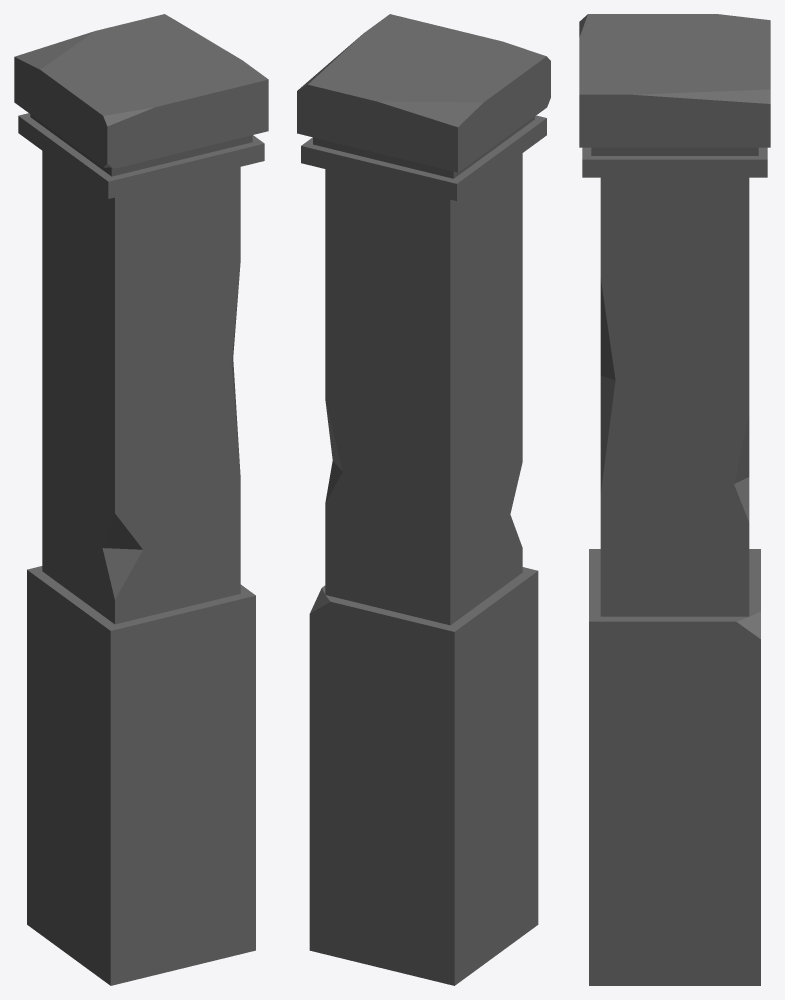
File: BridgePart_02.fbx
The picture shows the model from 3 angles, left to right: view 1: azimuth 30°, elevation 25°; view 2: azimuth 150°, elevation 25°; view 3: azimuth 270°, elevation 25°; orthographic projection. The views are drawn at different scales.
Parts seen in each view (by area): view 1: BridgePart_02_LOD0; view 2: BridgePart_02_LOD0; view 3: BridgePart_02_LOD0.
Boxes of the visible parts, x1,y1,x2,y2 form: BridgePart_02_LOD0: (14,14,268,985); BridgePart_02_LOD0: (297,14,550,985); BridgePart_02_LOD0: (579,14,770,985).
Size of what is drawn, in the model's own units: 0.5966 by 3.08 by 0.5966.
